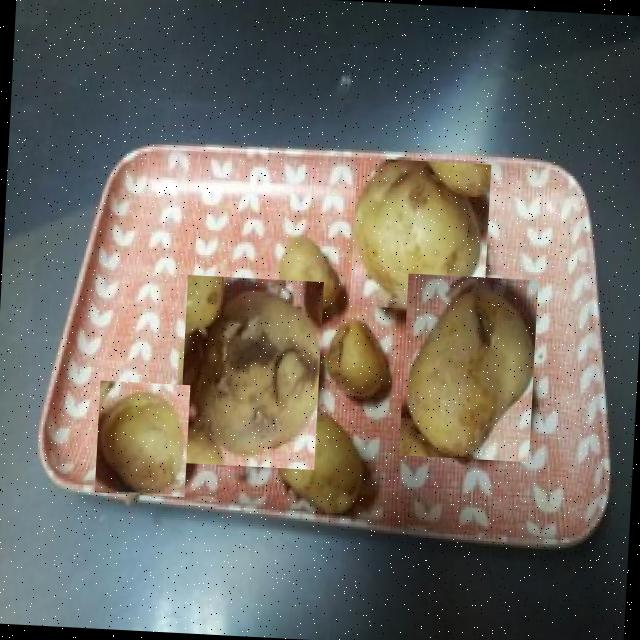Potato: (178, 275, 324, 470), (399, 274, 538, 462), (349, 158, 492, 312), (94, 380, 190, 498), (280, 402, 368, 525), (324, 311, 396, 411)
